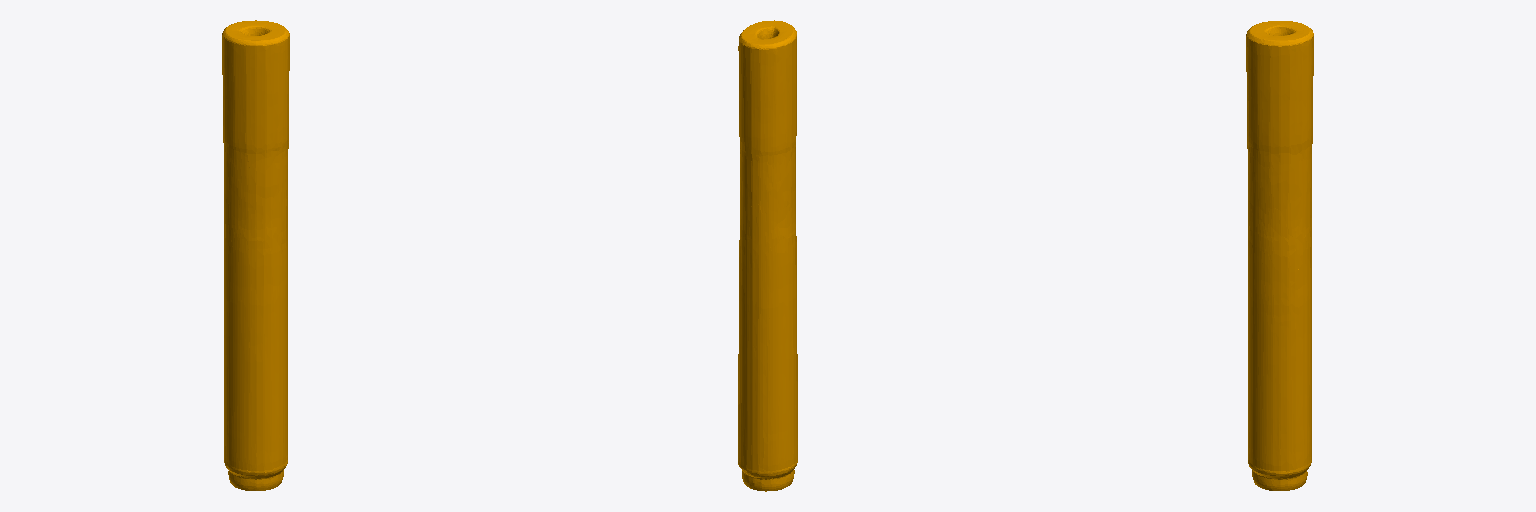
The robot description file, URDF, robot "sample":
<?xml version="1.0" ?>
<robot name="sample">
   <link name="sample">
      <visual>
         <origin xyz="0 0 0" rpy="1.5708 0.0 0.0"/>
         <geometry>
            <mesh filename="mesh/sample.obj" scale="1.0 1.0 1.0"/>
         </geometry>
      </visual>
      <collision>
         <origin xyz="0 0 0" rpy="1.5708 0.0 0.0"/>
         <geometry>
            <mesh filename="mesh/sample_collision.obj" scale="1.0 1.0 1.0"/>
         </geometry>
         <gazebo>
            <mu1>0.50</mu1>
            <mu2>0.40</mu2>
         </gazebo>
      </collision>
      <inertial>
         <mass value="0.0300"/>
         <origin xyz="0 0 0"/>
         <inertia ixx="1.0" ixy="0.0" ixz="0.0" iyy="1.0" iyz="0.0" izz="1.0"/>
      </inertial>
      <extra_info>
         <scale>0.135000</scale>
         <version>v0.1.7</version>
         <category>maker</category>
         <description>blue-capped white marker with label and barcode</description>
         <min_height>0.12</min_height>
         <max_height>0.15</max_height>
         <real_height>0.135</real_height>
         <min_mass>0.02</min_mass>
         <max_mass>0.04</max_mass>
         <color>blue</color>
         <rgba>[0.0, 0.0, 1.0, 1.0]</rgba>
         <generate_time>20260708094538</generate_time>
         <gs_model>mesh/sample_gs.ply</gs_model>
      </extra_info>
   </link>
   <custom_data>
      <quality>
         <MeshGeoChecker>YES</MeshGeoChecker>
         <ImageSegChecker>NO, object is not fully extracted; background artifacts remain and edges are incomplete.</ImageSegChecker>
         <ImageAestheticChecker>4.574764966964722</ImageAestheticChecker>
         <overall>NO</overall>
      </quality>
   </custom_data>
</robot>

--- Render facts (derived) ---
Views: 3 orthographic renders of the robot side by side, from view 1: azimuth 90°, elevation 25°; view 2: azimuth 150°, elevation 25°; view 3: azimuth 270°, elevation 25°.
Model sample with 1 links and 0 joints (none), rooted at sample, posed all joints at 0.
Visible links, largest first — view 1: sample; view 2: sample; view 3: sample.
Boxes of the visible links, left/top/right/bottom form: sample: left=222, top=20, right=289, bottom=490; sample: left=738, top=20, right=797, bottom=491; sample: left=1246, top=21, right=1313, bottom=490.
Bounding box of the posed robot: 0.0163 × 0.0184 × 0.135 m (x, y, z).
Meshes: 1 distinct files referenced, 1 mesh visuals loaded (1 OBJ).
